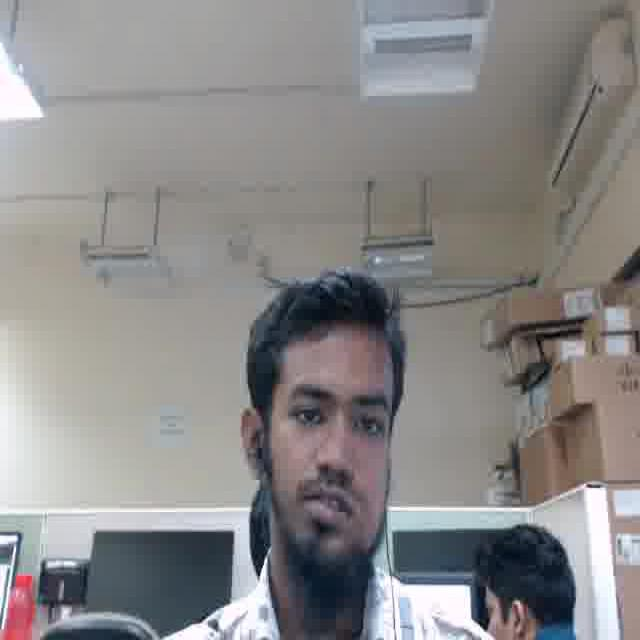Engaged: (266, 338, 397, 562)
